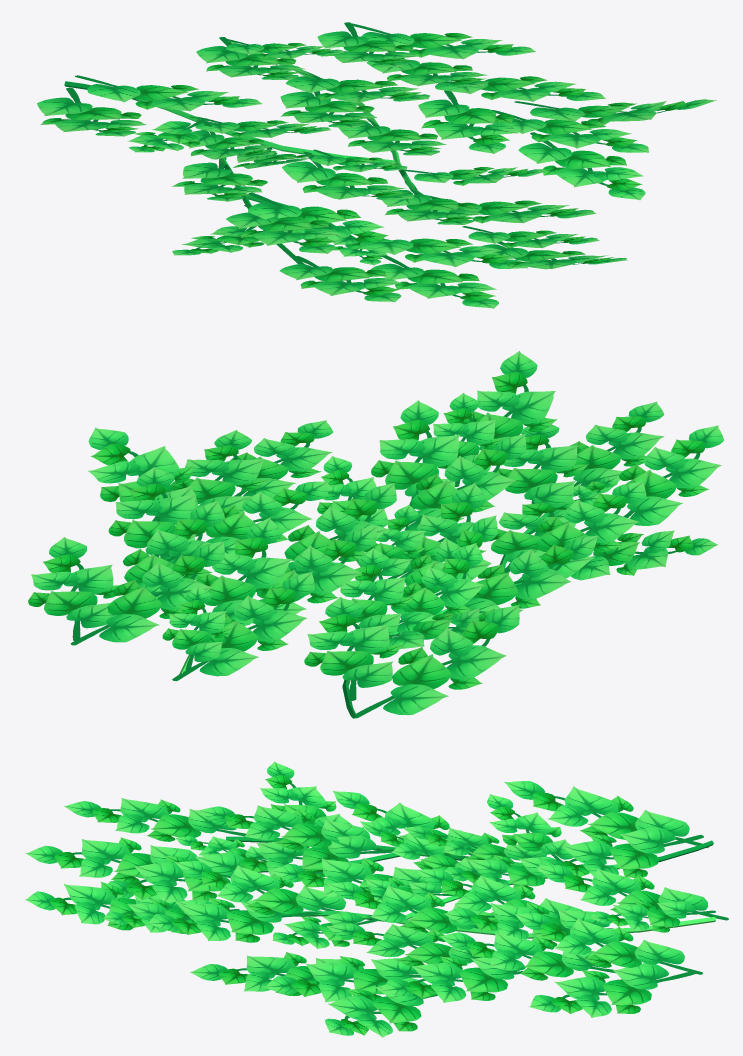
Rendered from VineMesh.FBX.
The picture shows the model from 3 angles, top to bottom: view 1: azimuth 30°, elevation 25°; view 2: azimuth 150°, elevation 25°; view 3: azimuth 270°, elevation 25°; orthographic projection. The views are drawn at different scales.
Visible parts, largest first — view 1: Vine; view 2: Vine; view 3: Vine.
Boxes of the visible parts, x1=… form: Vine: x1=37, y1=22, x2=716, y2=308; Vine: x1=28, y1=351, x2=723, y2=718; Vine: x1=25, y1=761, x2=728, y2=1037.
Bounding box in the file's own units: 283 × 27.4 × 313.
1 material, 1 textured.
